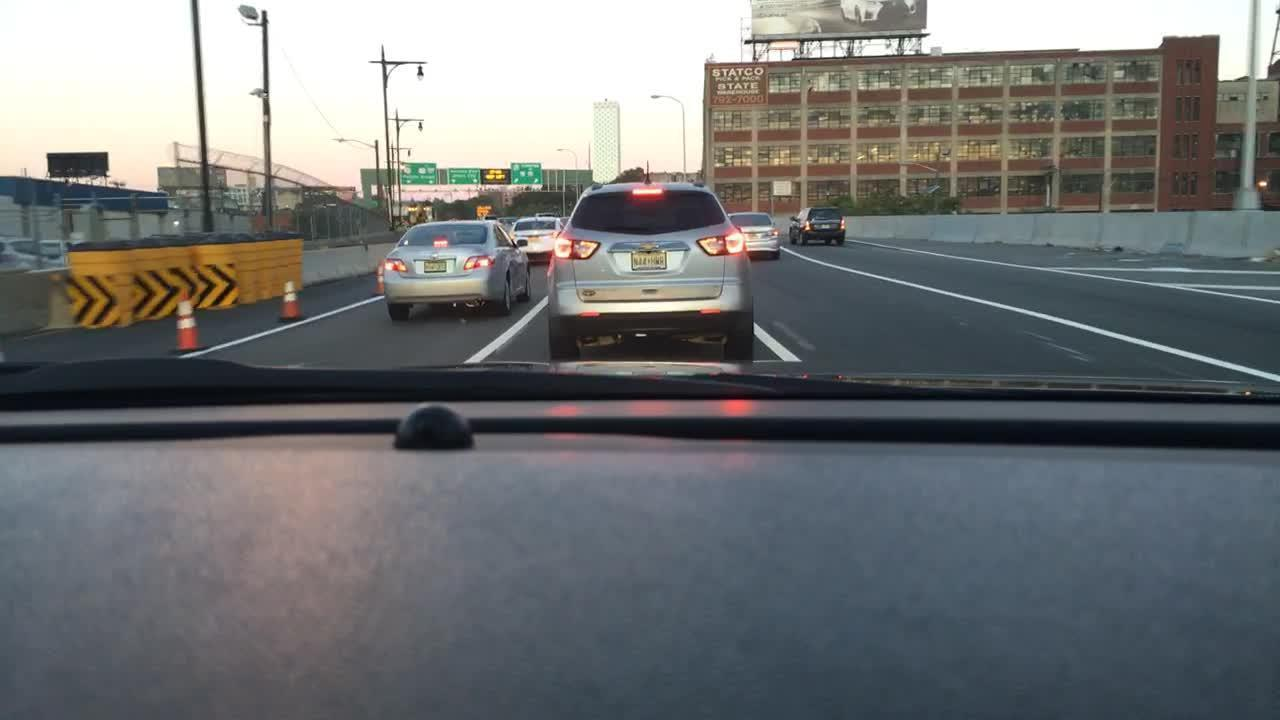chevrolet: (632, 235, 664, 258)
